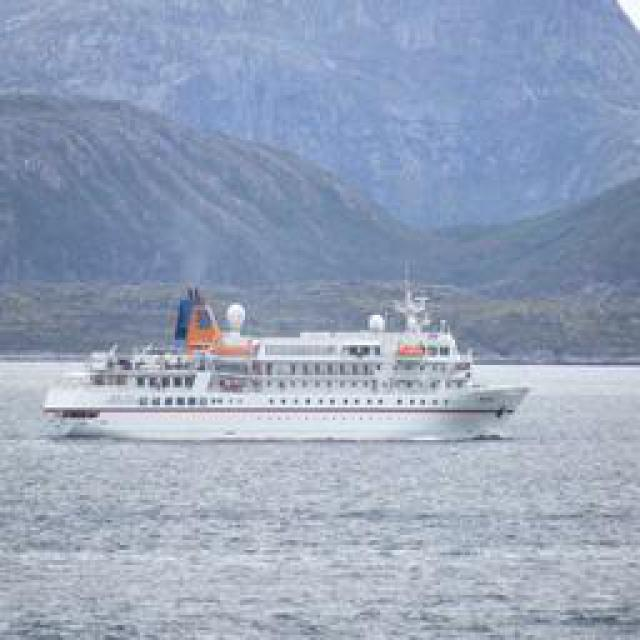Ship: (33, 280, 528, 448)
